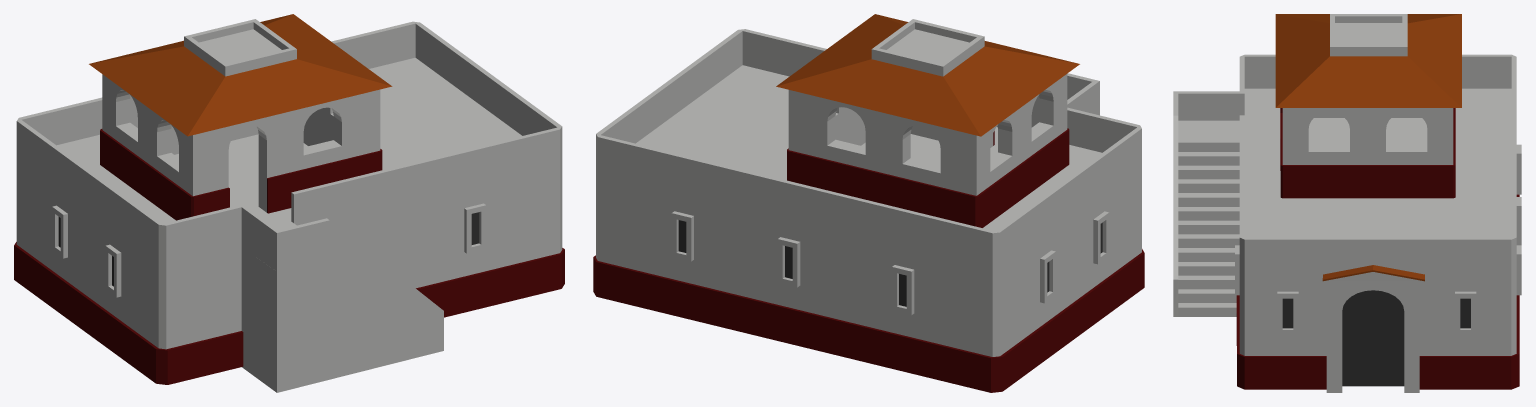
Rendered from Roman Building 1.fbx.
The picture shows the model from 3 angles, left to right: view 1: azimuth 30°, elevation 25°; view 2: azimuth 150°, elevation 25°; view 3: azimuth 270°, elevation 25°; orthographic projection. The views are drawn at different scales.
Parts seen in each view (by area): view 1: Roman Building 1; view 2: Roman Building 1; view 3: Roman Building 1.
Part boxes in pixels (bbox=[...]): Roman Building 1: bbox=[14, 14, 564, 392]; Roman Building 1: bbox=[593, 14, 1144, 392]; Roman Building 1: bbox=[1173, 14, 1521, 392].
Bounding box in the file's own units: 1760 × 1033 × 1348.
